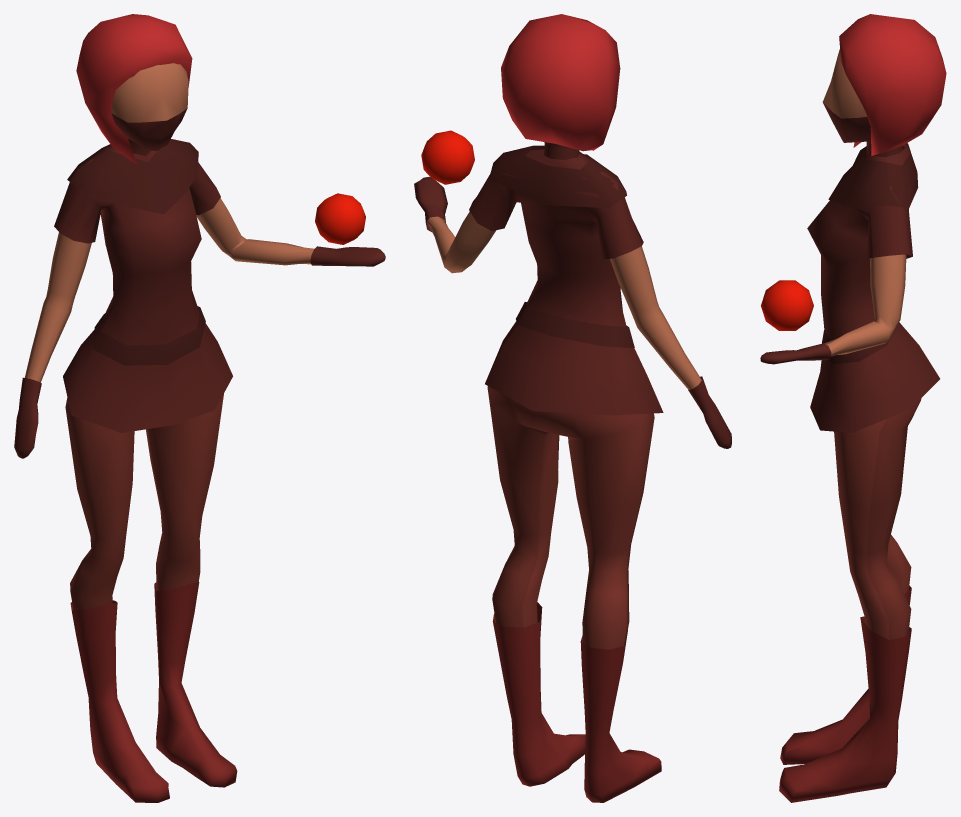
File: YuniPose2.fbx
The picture shows the model from 3 angles, left to right: view 1: azimuth 30°, elevation 25°; view 2: azimuth 150°, elevation 25°; view 3: azimuth 270°, elevation 25°; orthographic projection. The views are drawn at different scales.
Visible parts, largest first — view 1: Sphere.001, Icosphere; view 2: Sphere.001, Icosphere; view 3: Sphere.001, Icosphere.
Part boxes in pixels (x1=…): Sphere.001: x1=14, y1=14, x2=385, y2=802; Icosphere: x1=315, y1=193, x2=365, y2=244; Sphere.001: x1=414, y1=14, x2=731, y2=802; Icosphere: x1=421, y1=130, x2=474, y2=184; Sphere.001: x1=760, y1=14, x2=946, y2=802; Icosphere: x1=761, y1=280, x2=813, y2=330.
Bounding box in the file's own units: 100 × 214 × 47.93.
